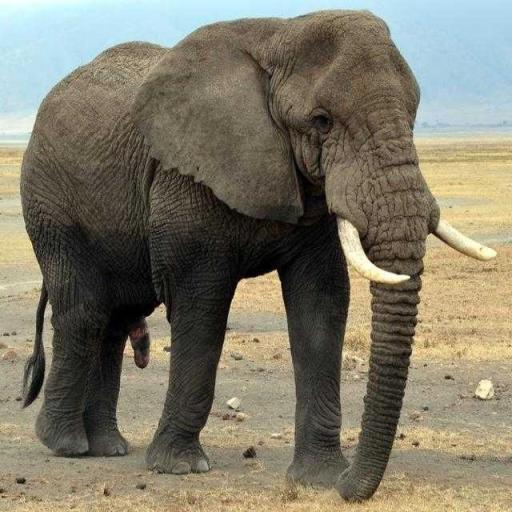Elephant: (16, 8, 498, 504)
